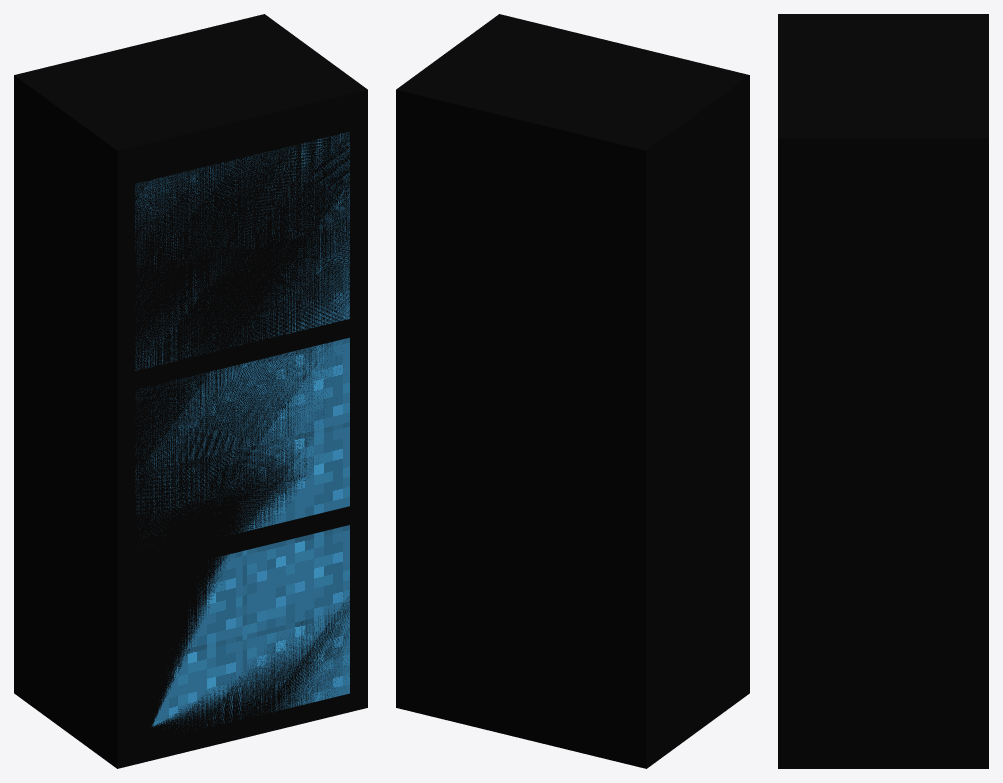
Rendered from mansionBookshelf.glb.
The picture shows the model from 3 angles, left to right: view 1: azimuth 30°, elevation 25°; view 2: azimuth 150°, elevation 25°; view 3: azimuth 270°, elevation 25°; orthographic projection.
Parts seen in each view (by area): view 1: mansionBookshelf_0; view 2: mansionBookshelf_0; view 3: mansionBookshelf_0.
Boxes of the visible parts, x1,y1,x2,y2 form: mansionBookshelf_0: [14, 14, 367, 768]; mansionBookshelf_0: [396, 14, 749, 768]; mansionBookshelf_0: [778, 14, 988, 768].
Bounding box in the file's own units: 0.875 × 2.06 × 0.625.
Materials: 1 (1 with a texture image).
